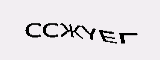Г: (116, 30, 138, 44)
Е: (97, 27, 118, 45)
Ж: (57, 22, 84, 40)
С: (23, 20, 43, 41), (42, 20, 59, 38)
Ү: (81, 23, 96, 40)
